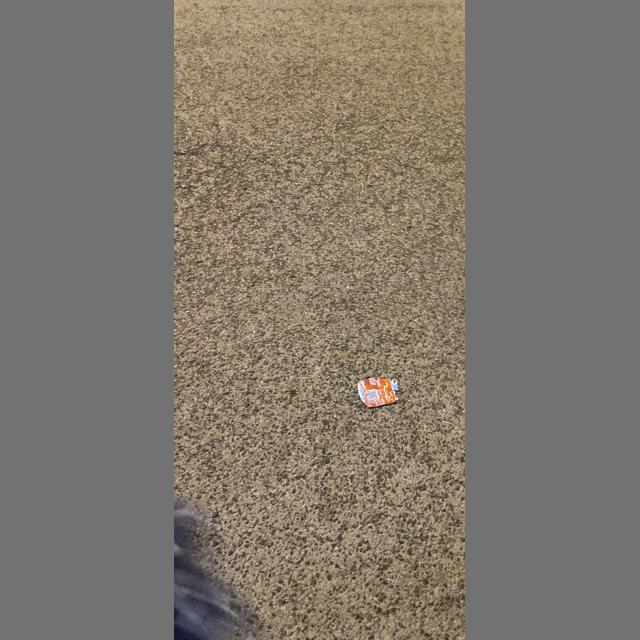litter: (358, 377, 399, 408)
